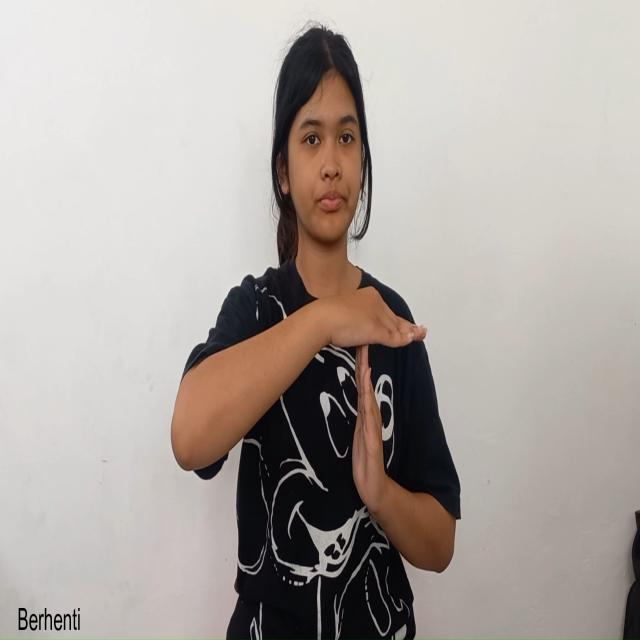Berhenti -BISINDO-: (240, 284, 402, 563)
